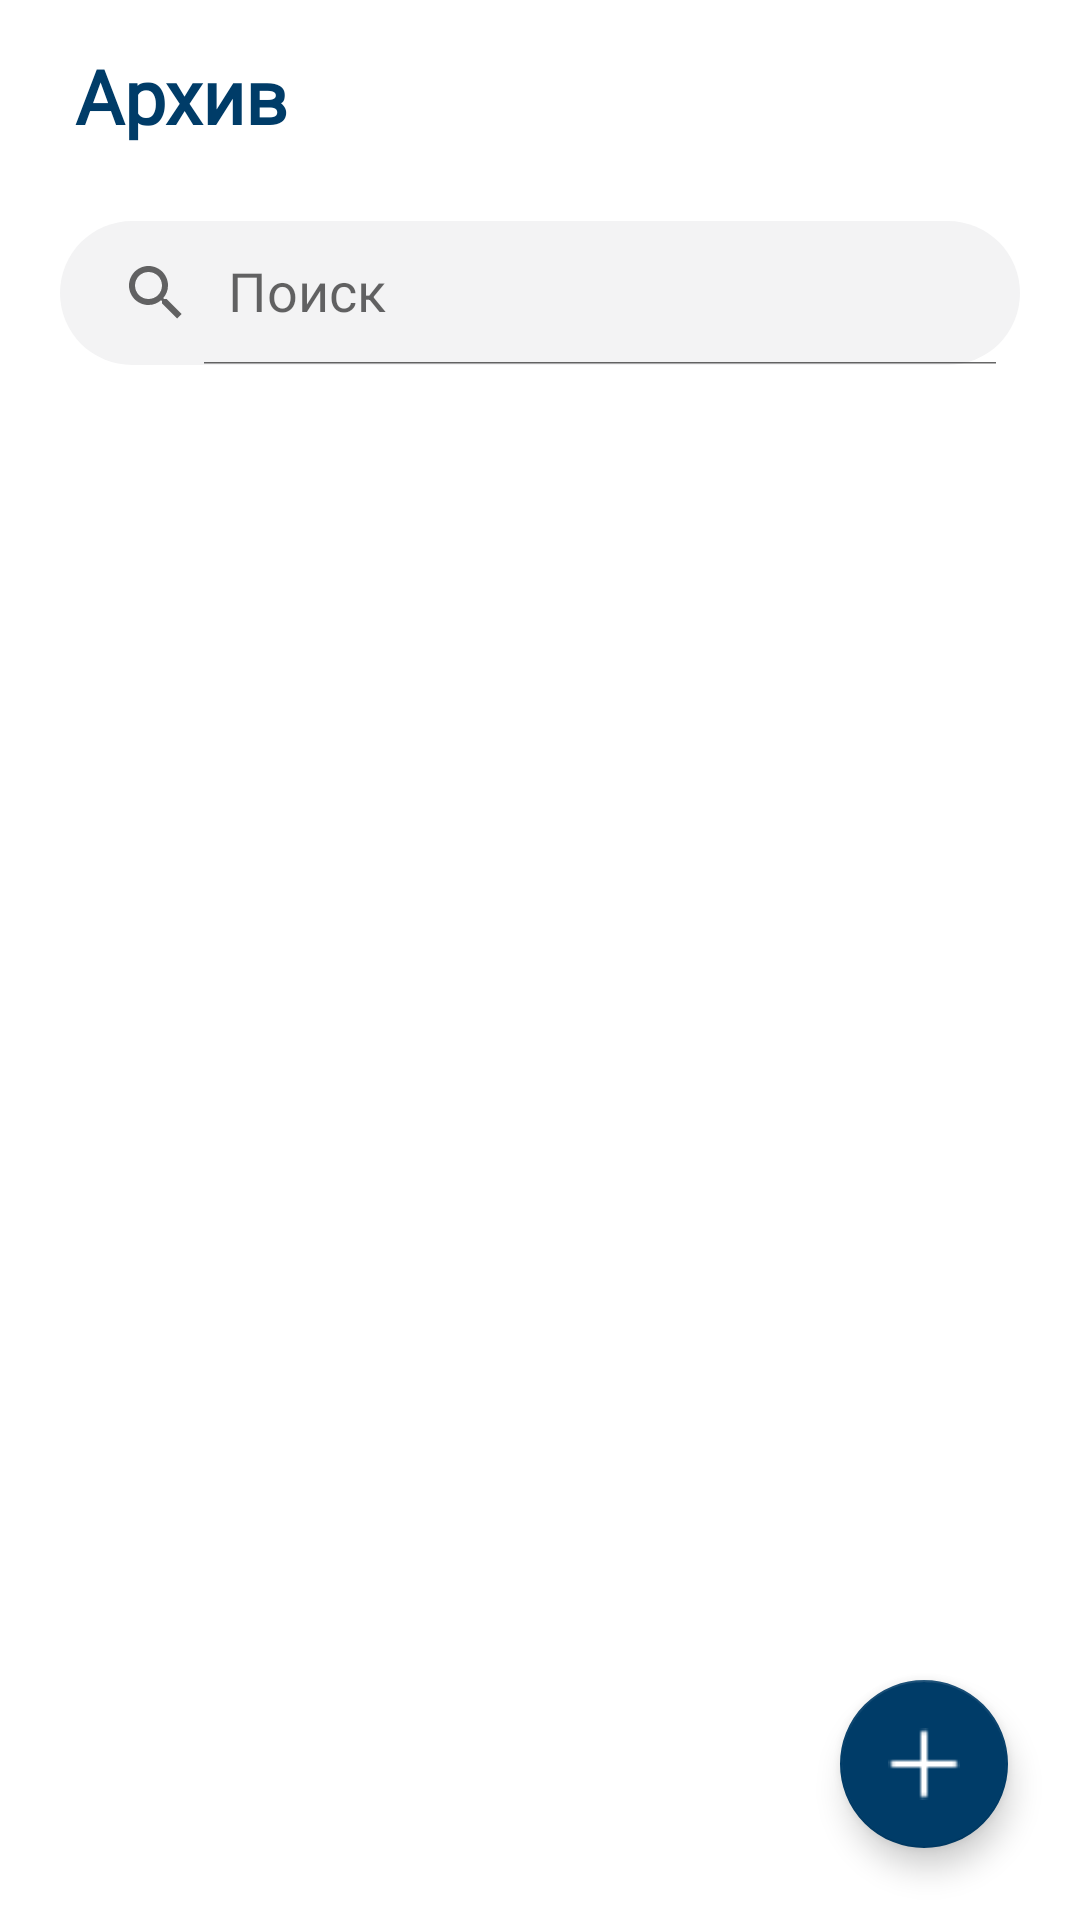

Where icons sit on this 1080*1920 app screen, as (x1, y1, x2, y2):
addbtn: (840, 1680, 1008, 1848)
